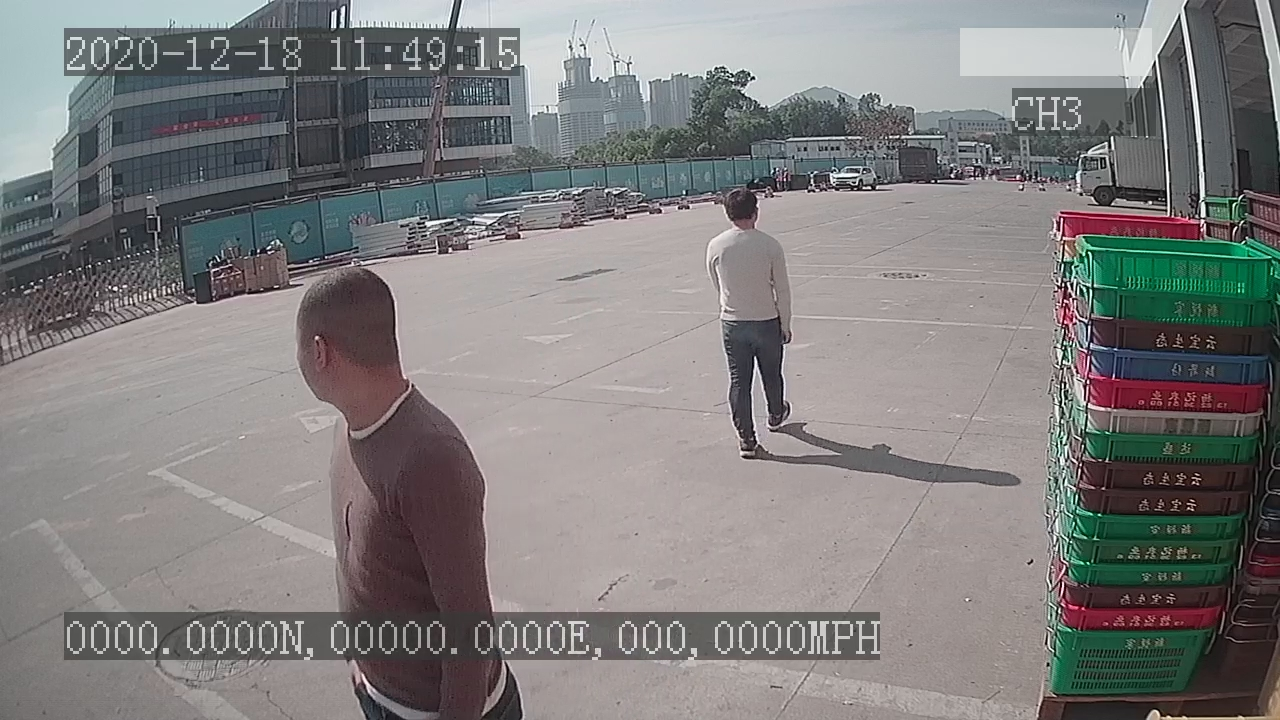person: (699, 185, 797, 460)
